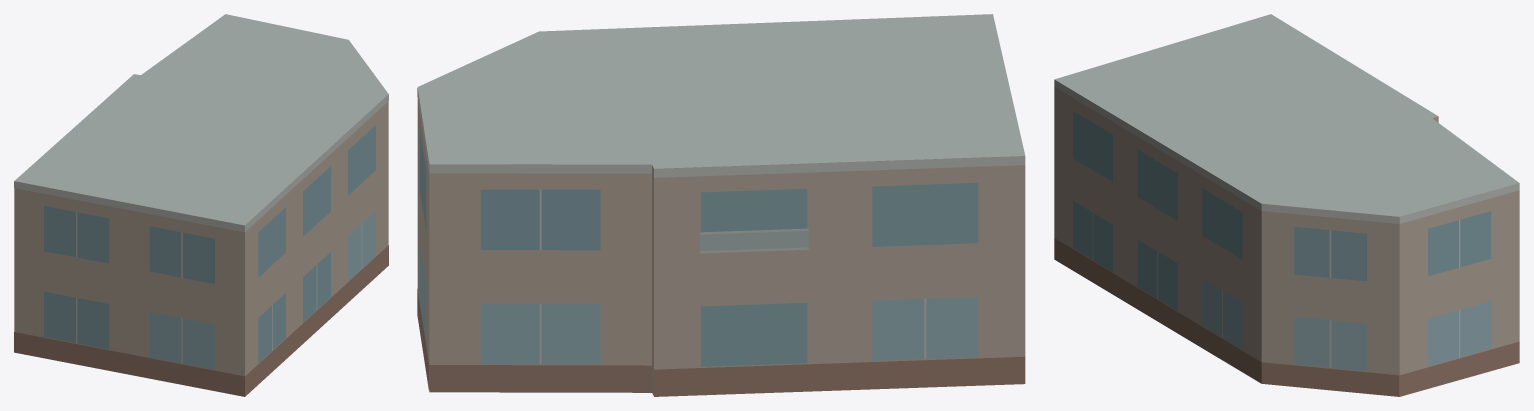
The model's file is survey-upis-32802763.glb.
3 views of the same model, side by side, from view 1: azimuth 30°, elevation 25°; view 2: azimuth 150°, elevation 25°; view 3: azimuth 270°, elevation 25° (orthographic). The views are drawn at different scales.
Visible parts, largest first — view 1: survey-upis-32802763.tmp; view 2: survey-upis-32802763.tmp; view 3: survey-upis-32802763.tmp.
Part boxes in pixels (<box>): survey-upis-32802763.tmp: <box>14,14,388,396</box>; survey-upis-32802763.tmp: <box>417,14,1025,396</box>; survey-upis-32802763.tmp: <box>1054,14,1519,396</box>.
Bounding box in the file's own units: 14.75 × 6.1 × 14.3.
